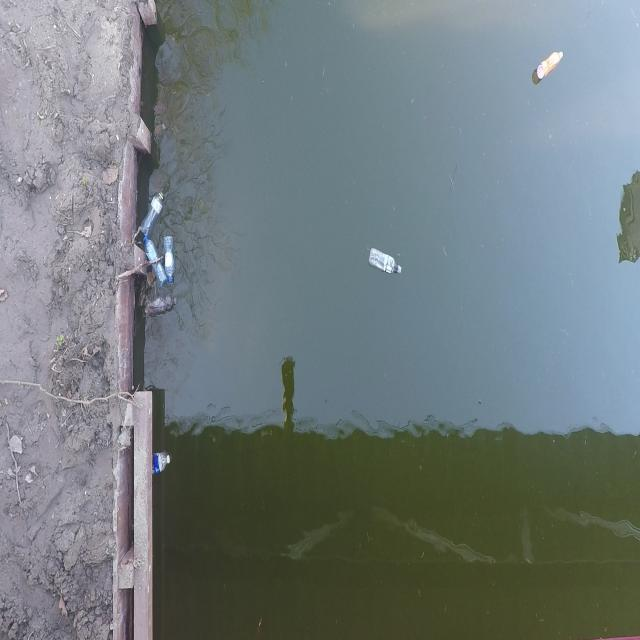Bouteille plastique: (365, 241, 405, 281), (138, 185, 166, 239), (534, 47, 567, 86), (142, 235, 167, 284), (143, 289, 180, 319), (164, 229, 178, 288), (152, 448, 174, 477)
